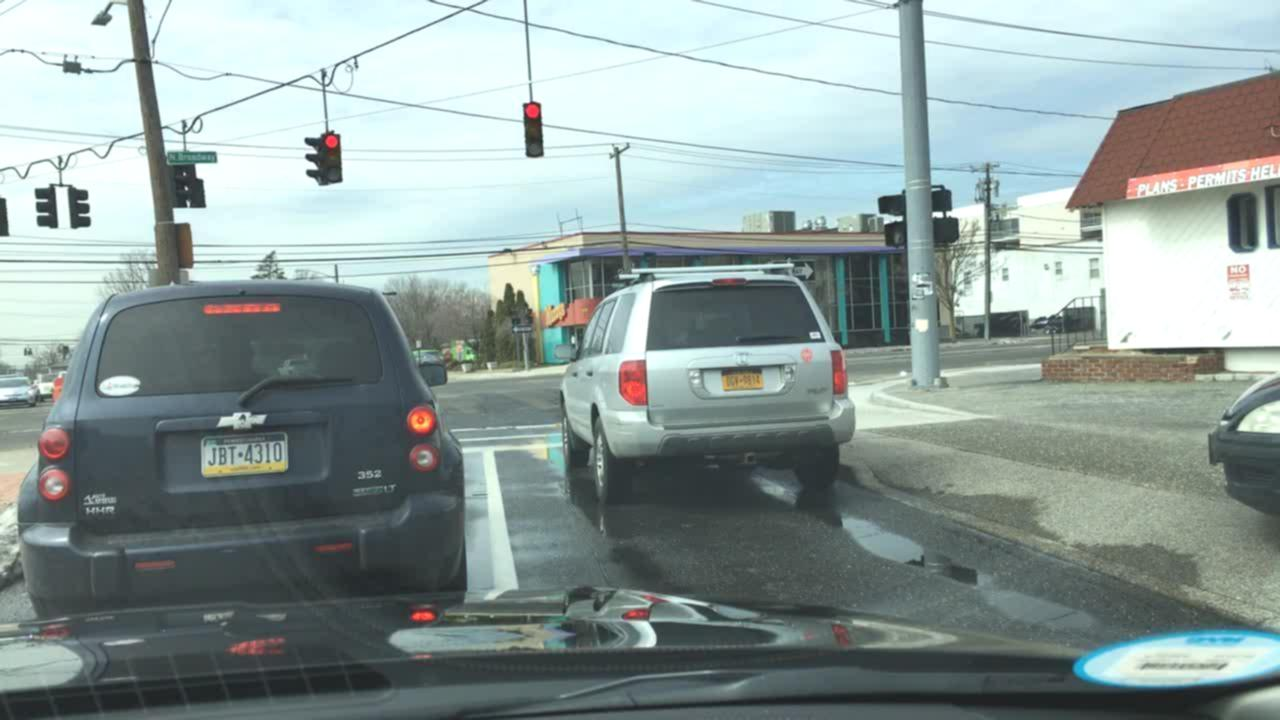Honda: (729, 350, 760, 370)
chevrolet: (209, 403, 283, 439)
